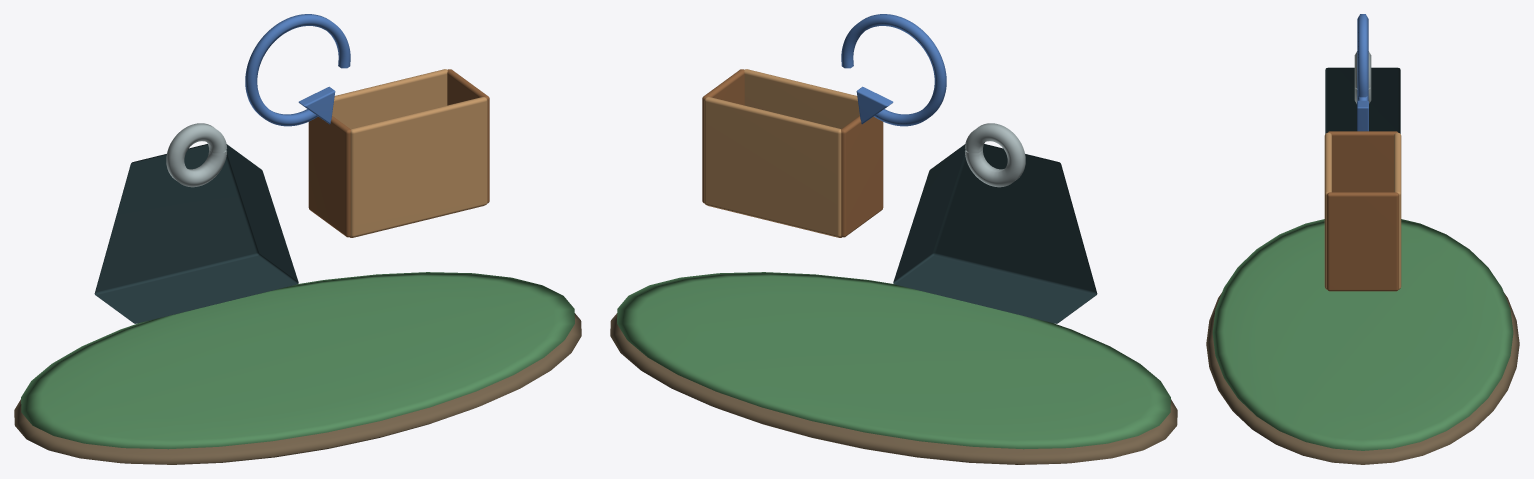
Rendered from complete-second-heavy-new-again.glb.
3 views of the same model, side by side, from view 1: azimuth 30°, elevation 25°; view 2: azimuth 150°, elevation 25°; view 3: azimuth 270°, elevation 25° (orthographic). The views are drawn at different scales.
Visible parts, largest first — view 1: complete-second-heavy-new-again_surface_01, complete-second-heavy-new-again_surface_02, complete-second-heavy-new-again_surface_04, complete-second-heavy-new-again_surface_00, complete-second-heavy-new-again_surface_05, complete-second-heavy-new-again_surface_06, complete-second-heavy-new-again_surface_03; view 2: complete-second-heavy-new-again_surface_01, complete-second-heavy-new-again_surface_02, complete-second-heavy-new-again_surface_04, complete-second-heavy-new-again_surface_00, complete-second-heavy-new-again_surface_05, complete-second-heavy-new-again_surface_06, complete-second-heavy-new-again_surface_03; view 3: complete-second-heavy-new-again_surface_01, complete-second-heavy-new-again_surface_05, complete-second-heavy-new-again_surface_00, complete-second-heavy-new-again_surface_02, complete-second-heavy-new-again_surface_04, complete-second-heavy-new-again_surface_06, complete-second-heavy-new-again_surface_03.
Boxes of the visible parts, x1,y1,x2,y2 form: complete-second-heavy-new-again_surface_01: [21, 272, 574, 449]; complete-second-heavy-new-again_surface_02: [94, 144, 298, 323]; complete-second-heavy-new-again_surface_04: [332, 69, 487, 237]; complete-second-heavy-new-again_surface_00: [14, 313, 581, 464]; complete-second-heavy-new-again_surface_05: [308, 69, 489, 237]; complete-second-heavy-new-again_surface_06: [245, 14, 350, 126]; complete-second-heavy-new-again_surface_03: [166, 123, 226, 187]; complete-second-heavy-new-again_surface_01: [617, 272, 1170, 449]; complete-second-heavy-new-again_surface_02: [893, 144, 1097, 323]; complete-second-heavy-new-again_surface_04: [704, 69, 859, 237]; complete-second-heavy-new-again_surface_00: [610, 313, 1177, 464]; complete-second-heavy-new-again_surface_05: [702, 69, 883, 237]; complete-second-heavy-new-again_surface_06: [841, 14, 946, 126]; complete-second-heavy-new-again_surface_03: [965, 123, 1025, 187]; complete-second-heavy-new-again_surface_01: [1212, 219, 1513, 450]; complete-second-heavy-new-again_surface_05: [1327, 131, 1398, 291]; complete-second-heavy-new-again_surface_00: [1206, 293, 1519, 464]; complete-second-heavy-new-again_surface_02: [1325, 67, 1400, 133]; complete-second-heavy-new-again_surface_04: [1324, 132, 1401, 289]; complete-second-heavy-new-again_surface_06: [1357, 14, 1368, 131]; complete-second-heavy-new-again_surface_03: [1354, 51, 1371, 103].
Size of the model in its own units: 4.56 by 2.99 by 2.5.
